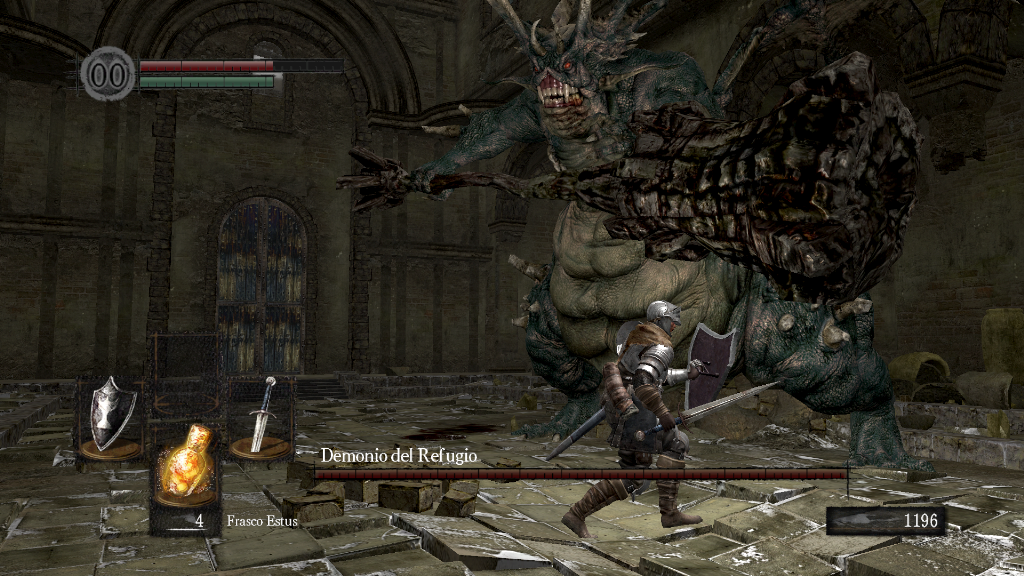asylumDemon: (339, 4, 938, 473)
bossHP: (314, 469, 847, 479)
health: (138, 58, 343, 71)
humanity: (80, 45, 136, 102)
player: (561, 300, 779, 539)
souls: (825, 506, 945, 536)
stamina: (138, 74, 274, 88)
